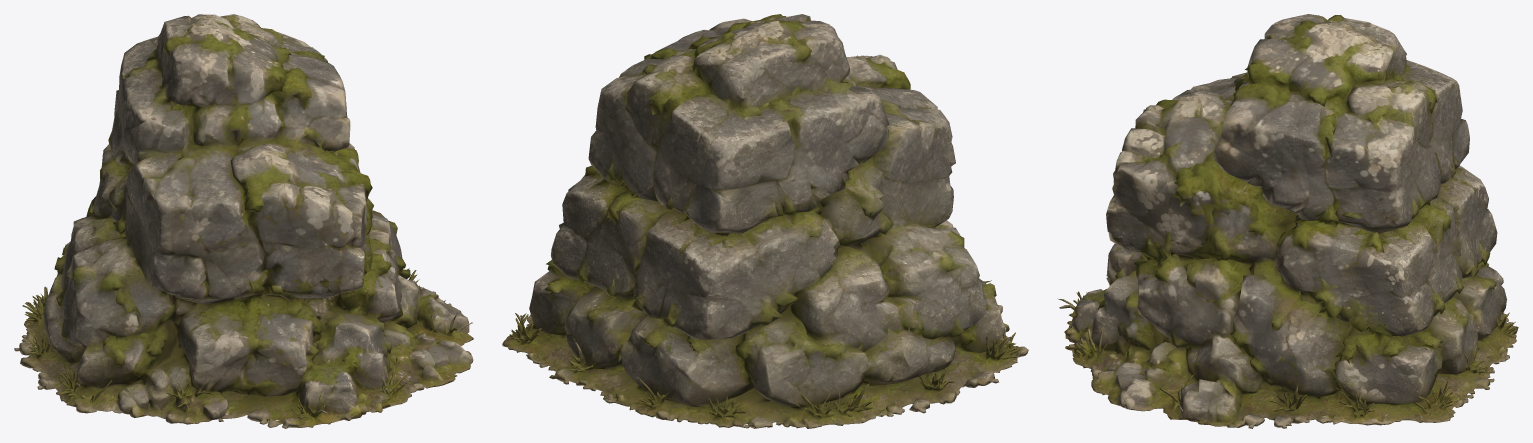
File: granite_tor_tripo.glb
3 renders of one model, left to right at view 1: azimuth 30°, elevation 25°; view 2: azimuth 150°, elevation 25°; view 3: azimuth 270°, elevation 25°, orthographic. The views are drawn at different scales.
Parts seen in each view (by area): view 1: tripo_node_caaf797e-e975-4d5f-8c8b-9d9d6b036ab3; view 2: tripo_node_caaf797e-e975-4d5f-8c8b-9d9d6b036ab3; view 3: tripo_node_caaf797e-e975-4d5f-8c8b-9d9d6b036ab3.
Part boxes in pixels (<box>): tripo_node_caaf797e-e975-4d5f-8c8b-9d9d6b036ab3: <box>14,14,473,428</box>; tripo_node_caaf797e-e975-4d5f-8c8b-9d9d6b036ab3: <box>502,14,1028,428</box>; tripo_node_caaf797e-e975-4d5f-8c8b-9d9d6b036ab3: <box>1057,14,1518,428</box>.
Bounding box in the file's own units: 1 × 0.722 × 0.9987.
Materials: 1 (1 with a texture image).
